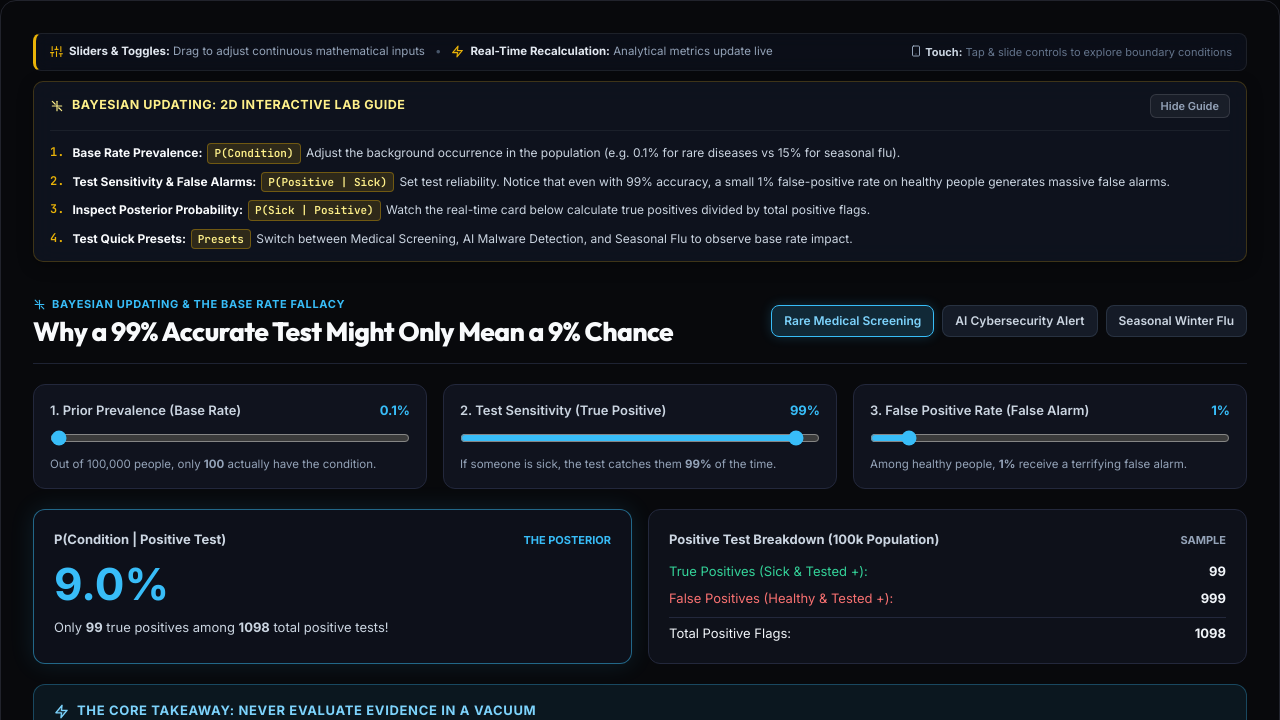
Test case: BayesTheorem2DLab › switches between presets and updates calculations
What coordinates should you click on to do the following:
click the button "AI Cybersecurity Alert"
I would click on:
 (1020, 321)
Its box is [942, 305, 1098, 337].
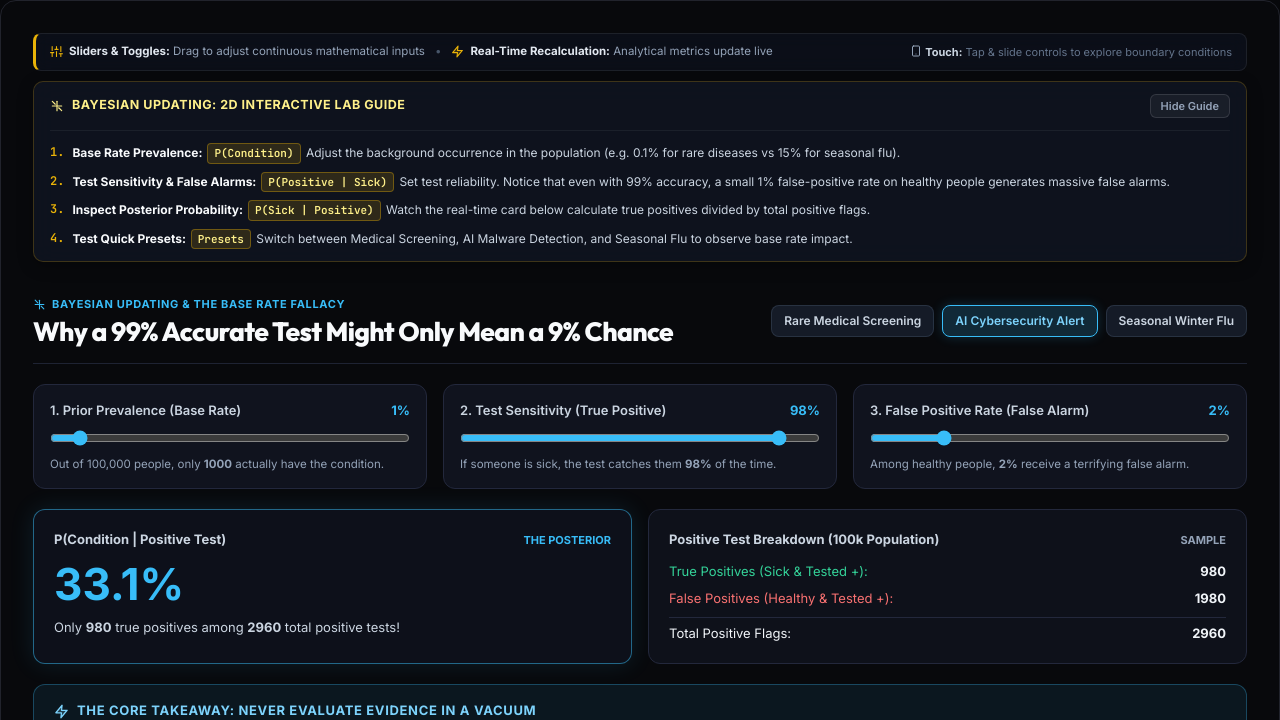
Expected: the text "33.1%" is shown, [54, 557, 184, 611]
